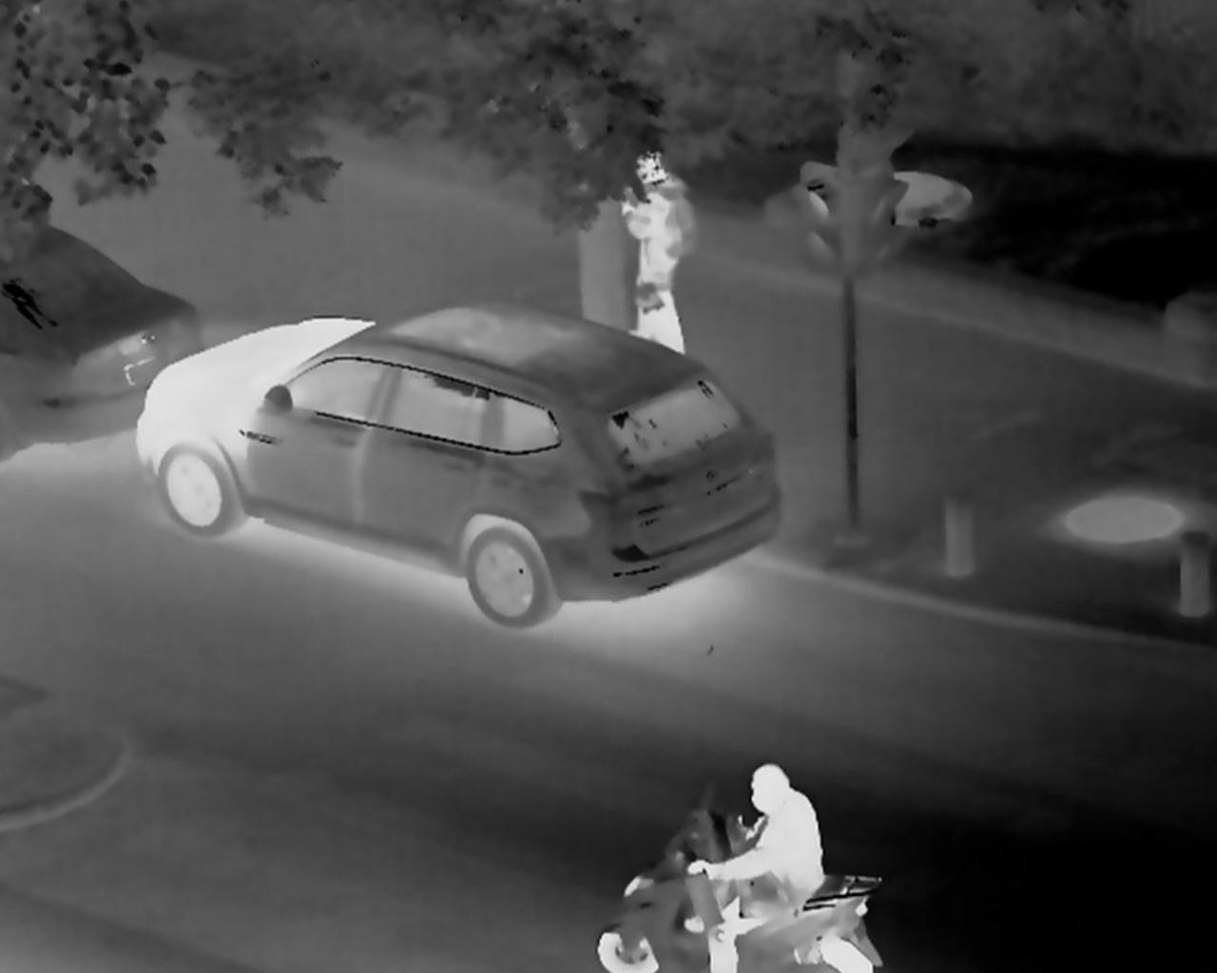person: (674, 753, 849, 958), (609, 151, 700, 376)
